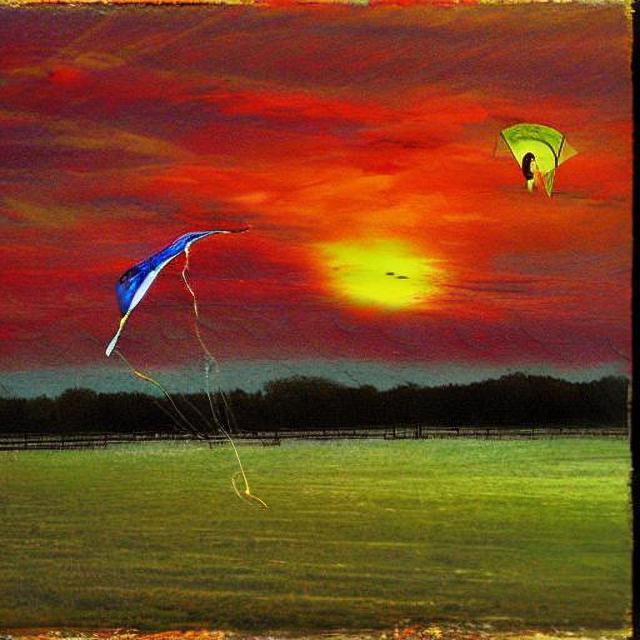floating object: (80, 188, 278, 377), (495, 122, 576, 199)
